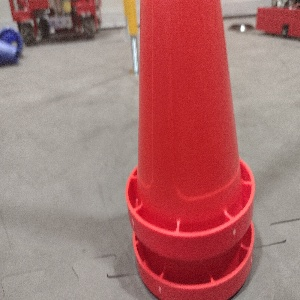Red_2: (124, 0, 256, 298)
